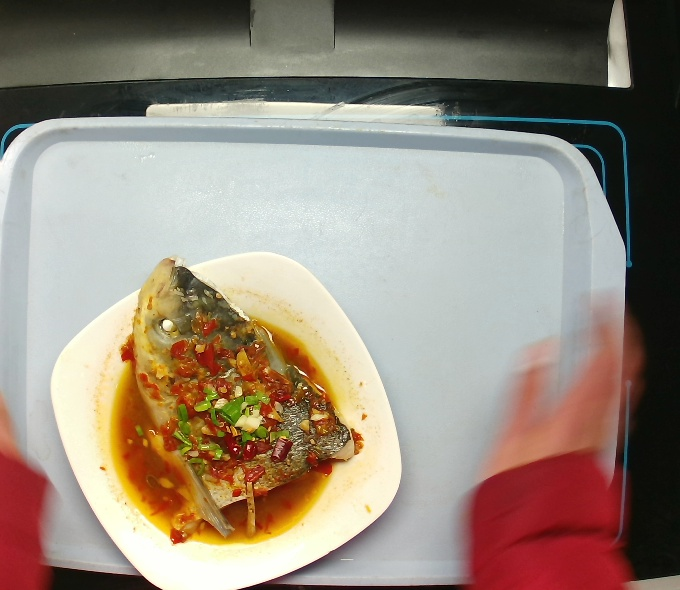wcq-DuoJiaoYuTou: (109, 250, 358, 549)
